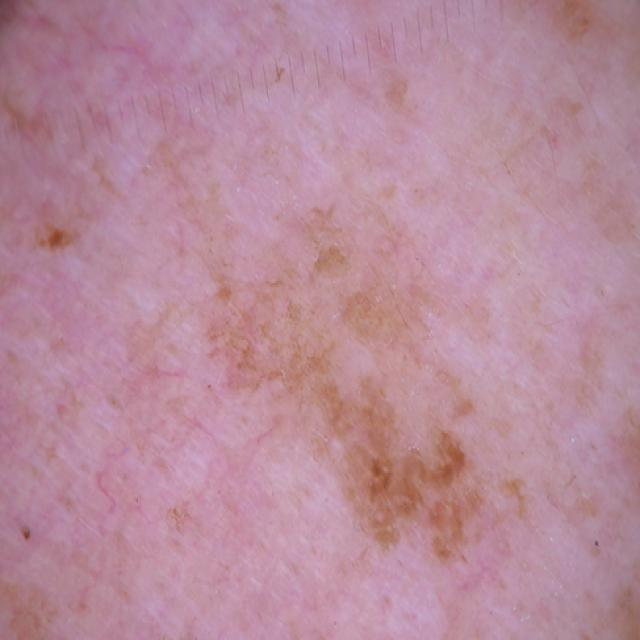Keratosis: (213, 144, 524, 583)
